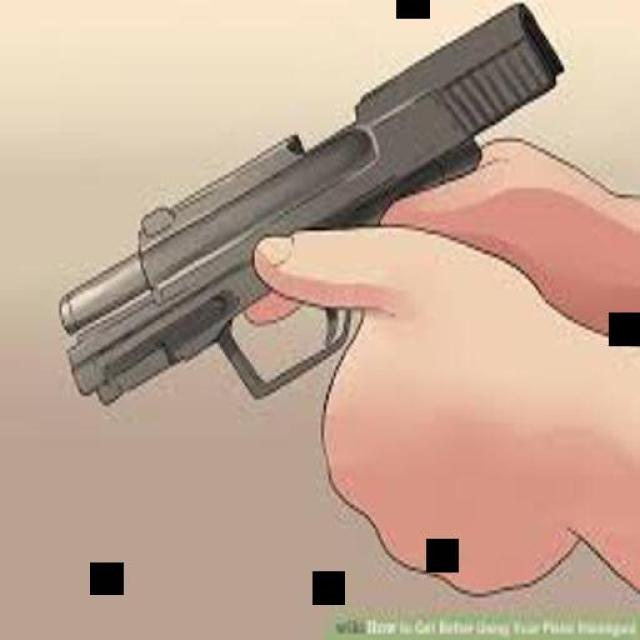gun: (40, 15, 566, 387)
